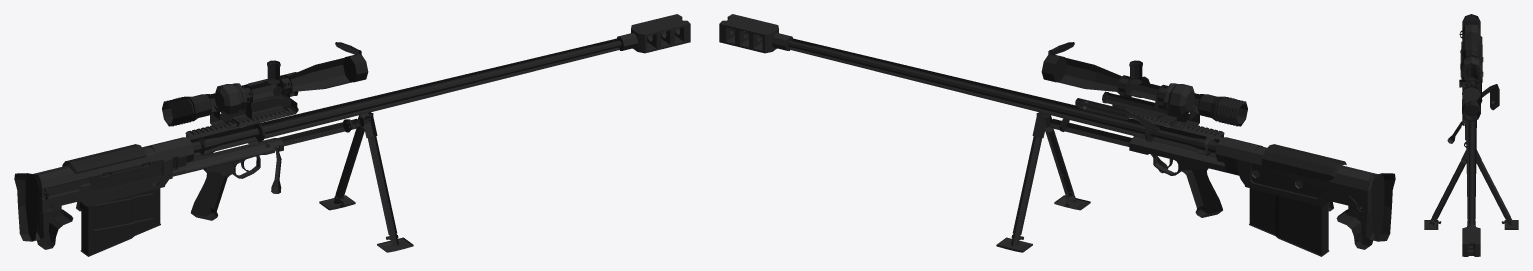
File: sniper_asvkm-named-nodes.glb
3 views of the same model, side by side, from view 1: azimuth 30°, elevation 25°; view 2: azimuth 150°, elevation 25°; view 3: azimuth 270°, elevation 25° (orthographic). The views are drawn at different scales.
Visible parts, largest first — view 1: Object_5, Object_4, Object_6, Object_11, Object_9, Object_8, Object_10; view 2: Object_5, Object_4, Object_6, Object_11, Object_9, Object_8, Object_10; view 3: Object_5, Object_6, Object_4, Object_8, Object_11, Object_9, Object_10, Object_12.
Part boxes in pixels (x1,y1,x2,y2): Object_5: [32, 83, 413, 252]; Object_4: [184, 38, 622, 165]; Object_6: [14, 42, 368, 249]; Object_11: [44, 72, 371, 256]; Object_9: [90, 57, 354, 193]; Object_8: [617, 14, 690, 53]; Object_10: [173, 106, 298, 193]; Object_5: [996, 83, 1377, 252]; Object_4: [787, 38, 1328, 199]; Object_6: [1041, 42, 1395, 249]; Object_11: [1046, 98, 1364, 256]; Object_9: [1055, 57, 1203, 113]; Object_8: [719, 14, 792, 53]; Object_10: [1117, 106, 1224, 173]; Object_5: [1424, 24, 1518, 229]; Object_6: [1459, 14, 1482, 140]; Object_4: [1464, 45, 1482, 224]; Object_8: [1462, 223, 1480, 256]; Object_11: [1459, 30, 1499, 147]; Object_9: [1460, 45, 1480, 108]; Object_10: [1447, 120, 1465, 143]; Object_12: [1442, 21, 1480, 202].
Bounding box in the file's own units: 22.37 × 6.05 × 3.94.
1 material, 1 textured.
